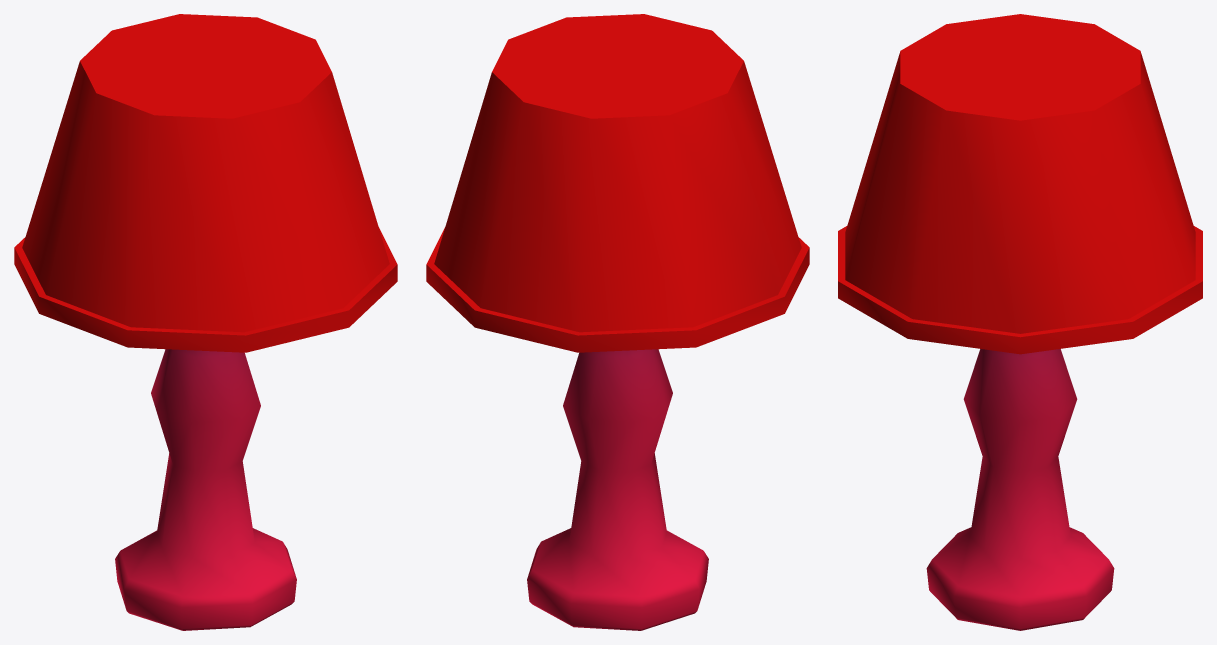
Rendered from CI_Bedroom_Lamp_Bedside.glb.
3 views of the same model, side by side, from view 1: azimuth 30°, elevation 25°; view 2: azimuth 150°, elevation 25°; view 3: azimuth 270°, elevation 25° (orthographic).
Visible parts, largest first — view 1: CI_Bedroom_Lamp_Bedside; view 2: CI_Bedroom_Lamp_Bedside; view 3: CI_Bedroom_Lamp_Bedside.
Part boxes in pixels (x1=…): CI_Bedroom_Lamp_Bedside: x1=14, y1=14, x2=397, y2=630; CI_Bedroom_Lamp_Bedside: x1=426, y1=14, x2=809, y2=630; CI_Bedroom_Lamp_Bedside: x1=838, y1=14, x2=1202, y2=630.
Bounding box in the file's own units: 0.304 × 0.46 × 0.2891.
